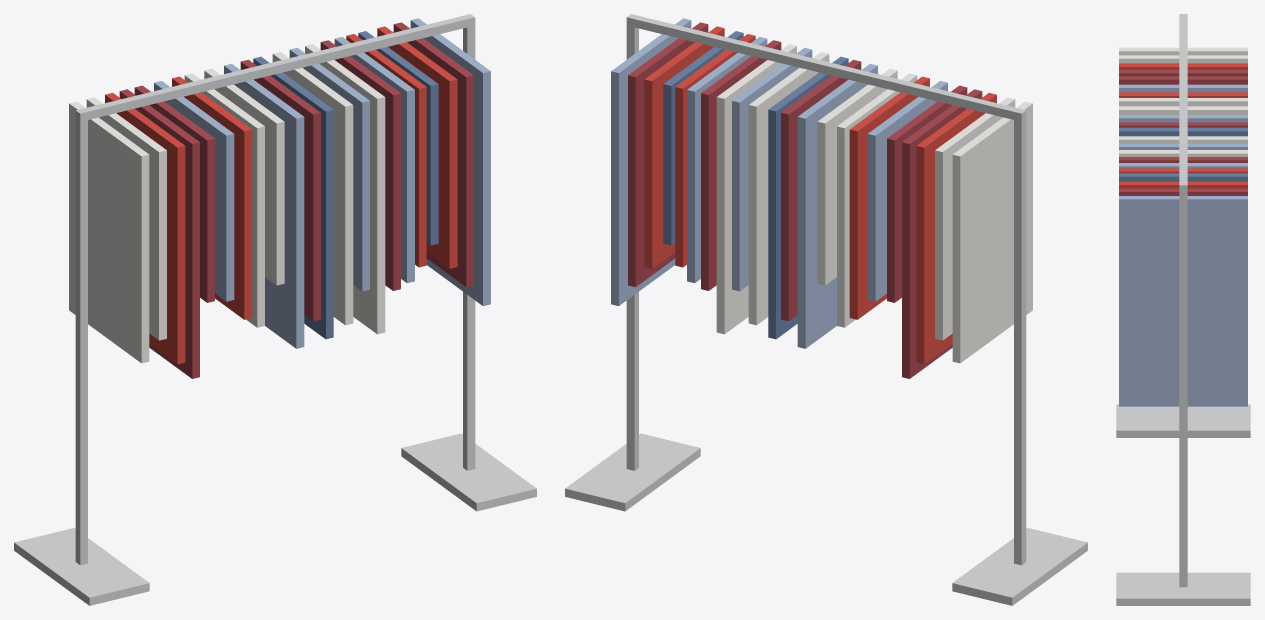
Rendered from Clothes_Rail.fbx.
3 views of the same model, side by side, from view 1: azimuth 30°, elevation 25°; view 2: azimuth 150°, elevation 25°; view 3: azimuth 270°, elevation 25° (orthographic). The views are drawn at different scales.
Parts seen in each view (by area): view 1: Clothes_Rail; view 2: Clothes_Rail; view 3: Clothes_Rail.
Part boxes in pixels (left/top/right/bottom): Clothes_Rail: left=14, top=14, right=536, bottom=605; Clothes_Rail: left=565, top=14, right=1087, bottom=605; Clothes_Rail: left=1116, top=14, right=1250, bottom=605.
Size of the model in its own units: 1.71 by 1.68 by 0.5.
